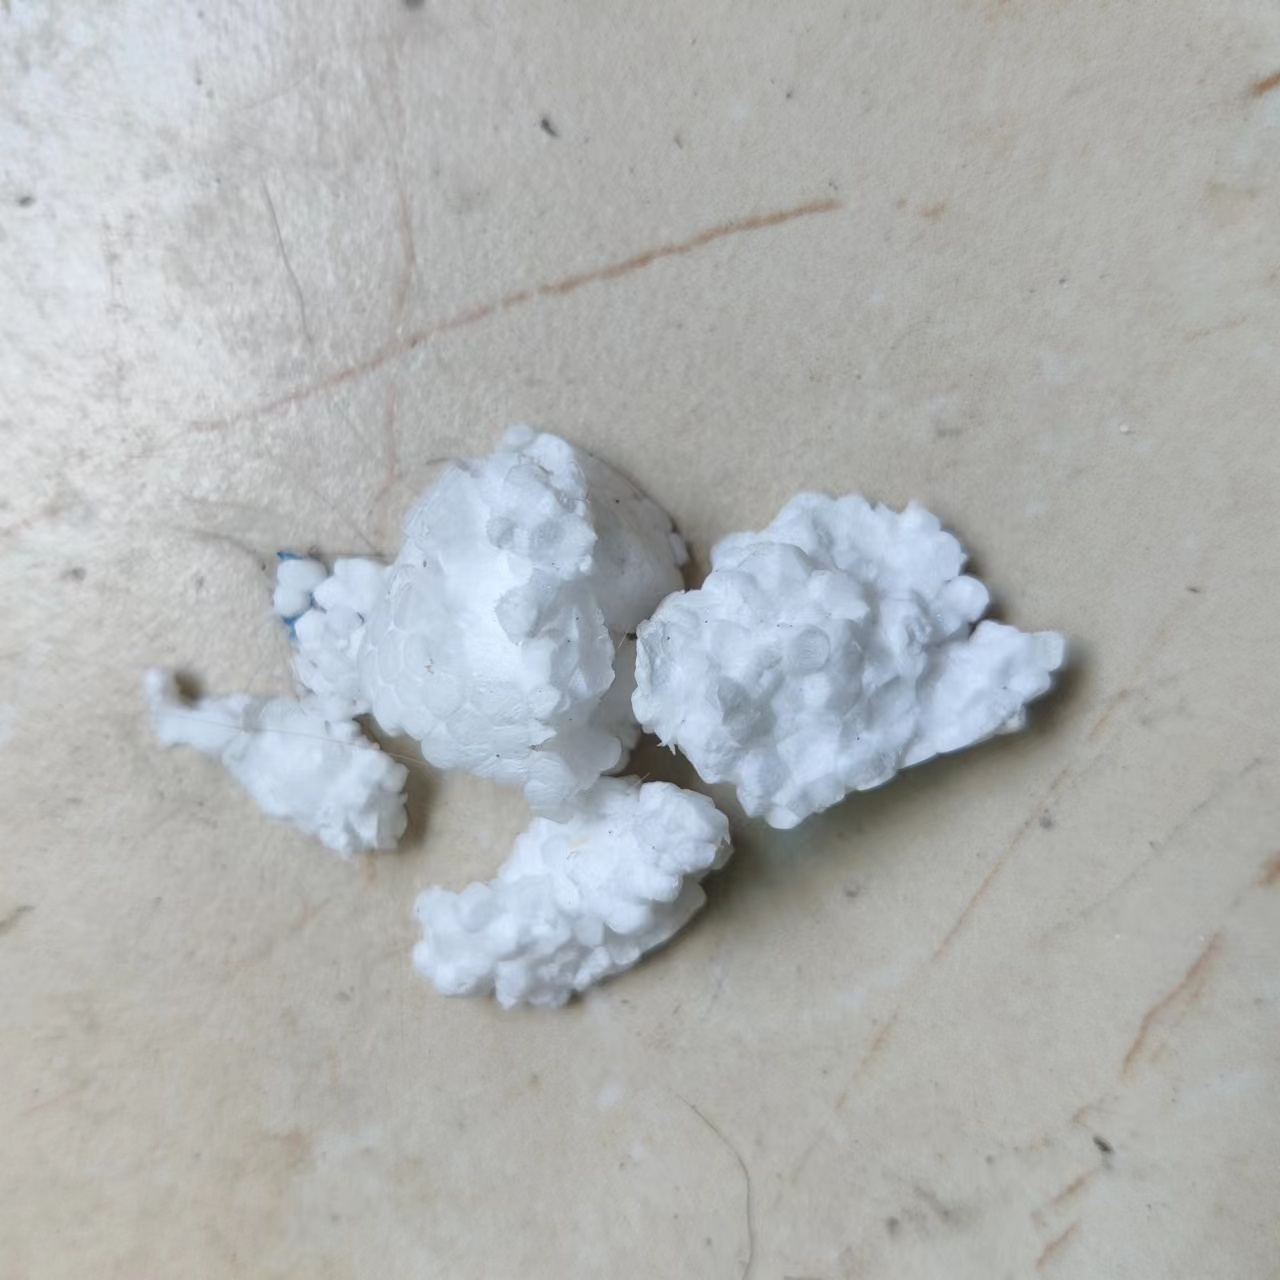5/可回收垃圾/泡沫: (267, 424, 692, 825), (636, 492, 1069, 829), (410, 778, 731, 1012), (139, 668, 409, 859)
